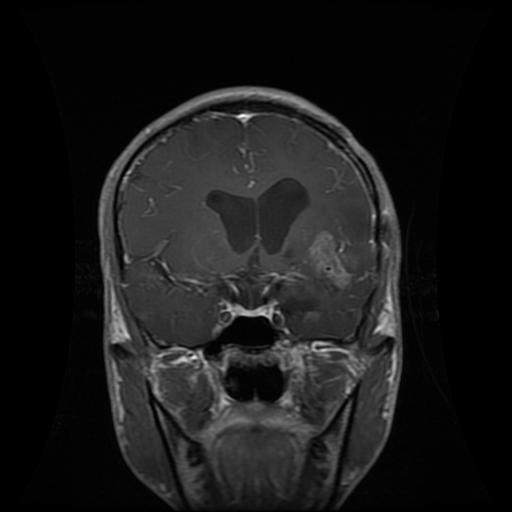Gliomia_tumour: (304, 226, 361, 290)
